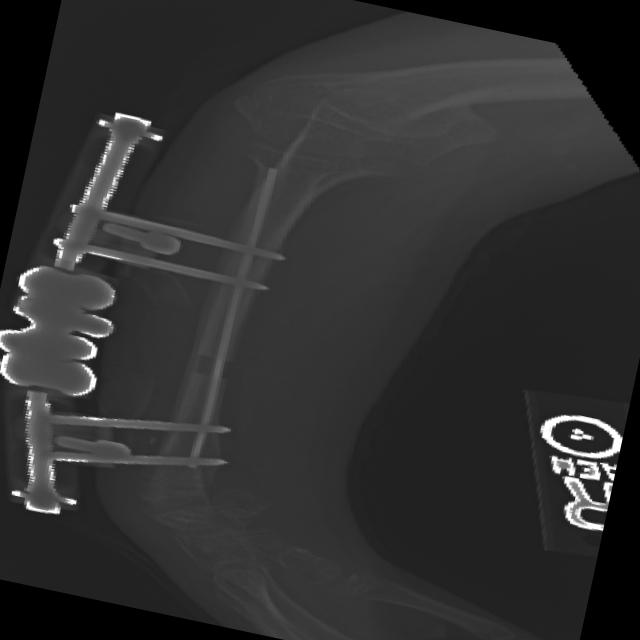forearm fracture: (157, 325, 271, 405)
